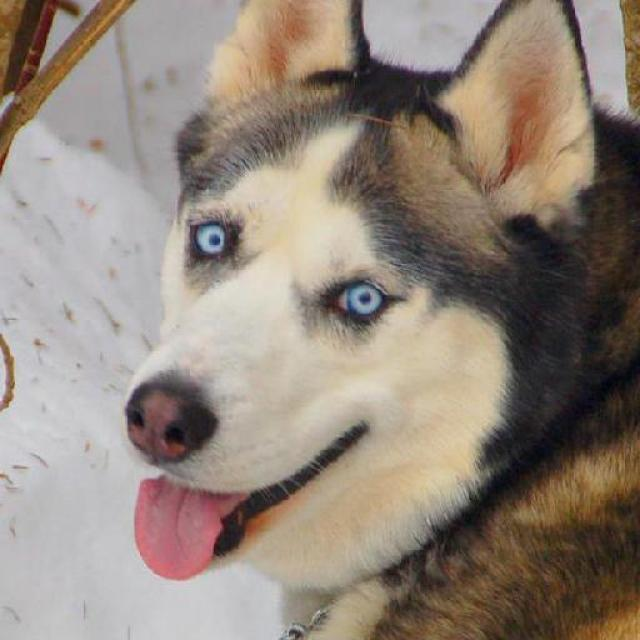happy: (89, 2, 640, 640)
